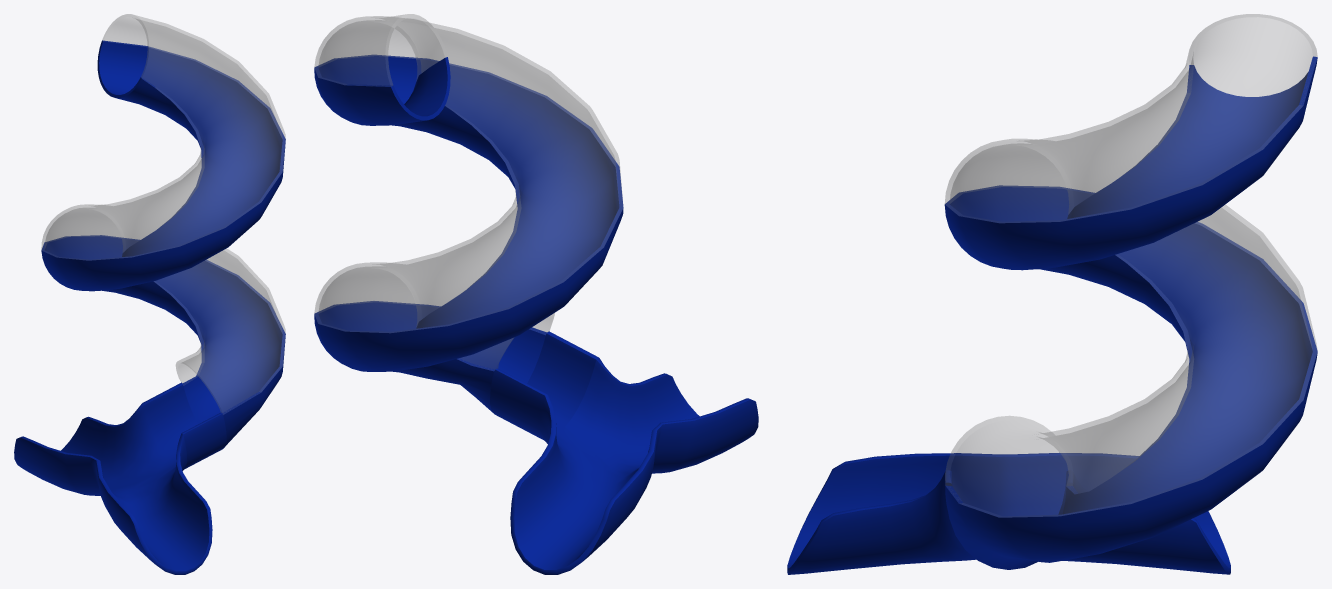
The model's file is Slider 03.FBX.
The picture shows the model from 3 angles, left to right: view 1: azimuth 30°, elevation 25°; view 2: azimuth 150°, elevation 25°; view 3: azimuth 270°, elevation 25°; orthographic projection. The views are drawn at different scales.
Parts seen in each view (by area): view 1: Spring003, Group040, AM94_044_obj_010; view 2: Spring003, Group040, AM94_044_obj_010; view 3: Group040, Spring003, AM94_044_obj_010.
Boxes of the visible parts, <box> form: Spring003: <box>41,40,285,445</box>; Group040: <box>41,14,285,414</box>; AM94_044_obj_010: <box>14,382,226,574</box>; Spring003: <box>314,55,623,413</box>; Group040: <box>314,14,623,370</box>; AM94_044_obj_010: <box>490,331,758,574</box>; Group040: <box>945,14,1317,517</box>; Spring003: <box>944,56,1317,569</box>; AM94_044_obj_010: <box>787,453,1230,574</box>.
Bounding box in the file's own units: 170 × 288 × 218.
